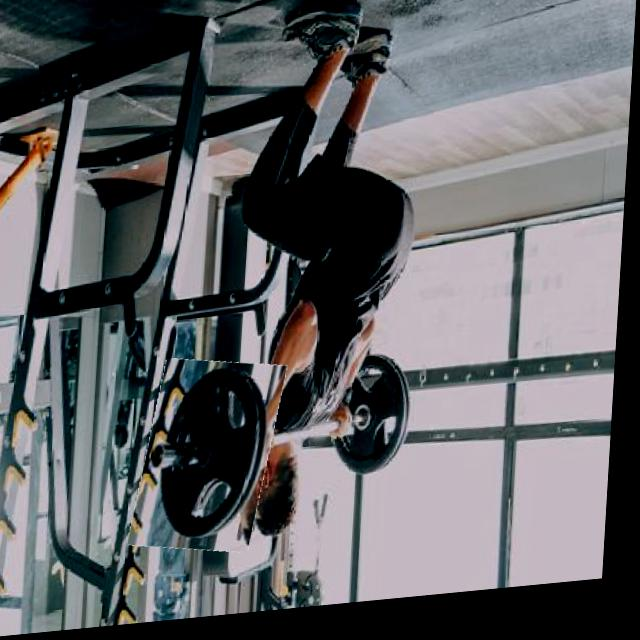barbell: (141, 358, 287, 563)
